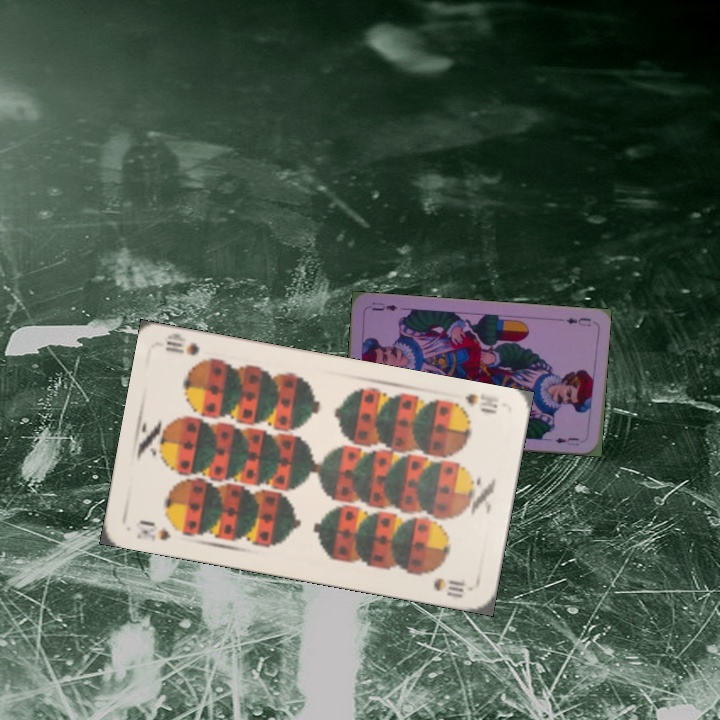EU: (562, 314, 593, 329)
S10: (445, 389, 501, 417), (133, 523, 173, 543)
